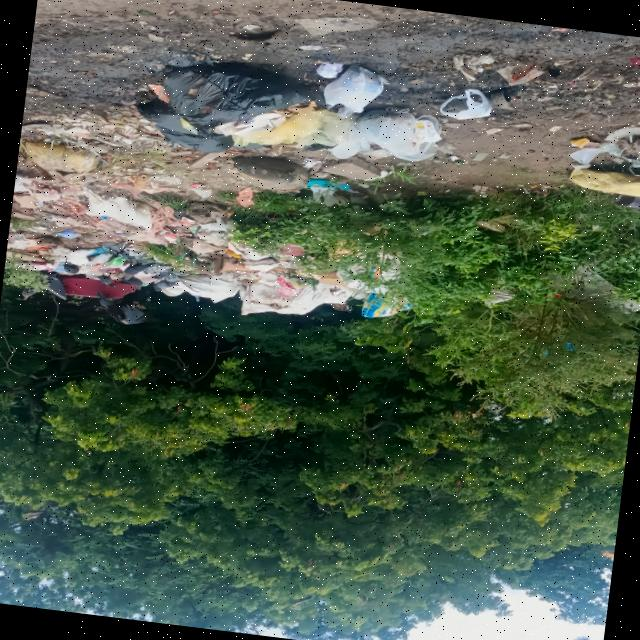garbage: (2, 137, 409, 334), (124, 39, 440, 185), (532, 89, 640, 226)
